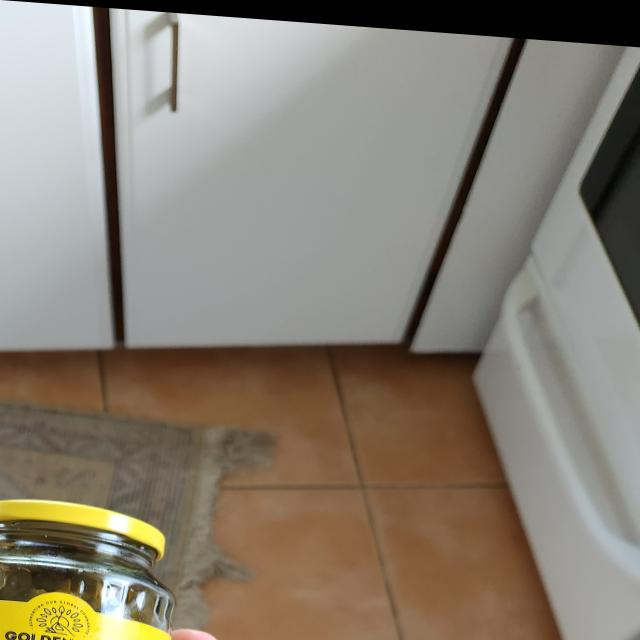jalapeno: (0, 493, 173, 640)
